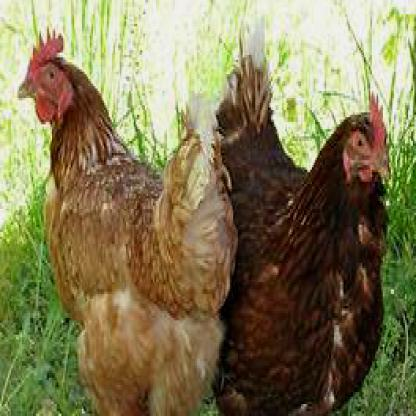chicken: (13, 26, 238, 414), (211, 17, 391, 414)
